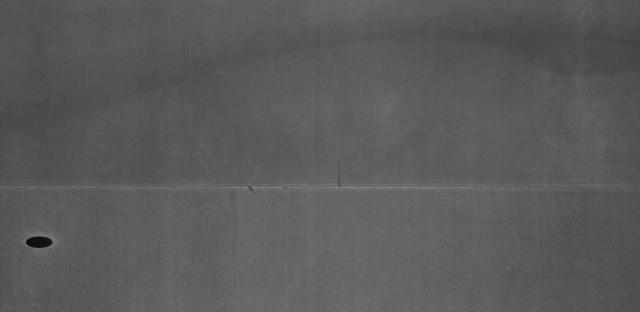punching_hole: (22, 230, 62, 251)
welding_line: (6, 179, 640, 197)
